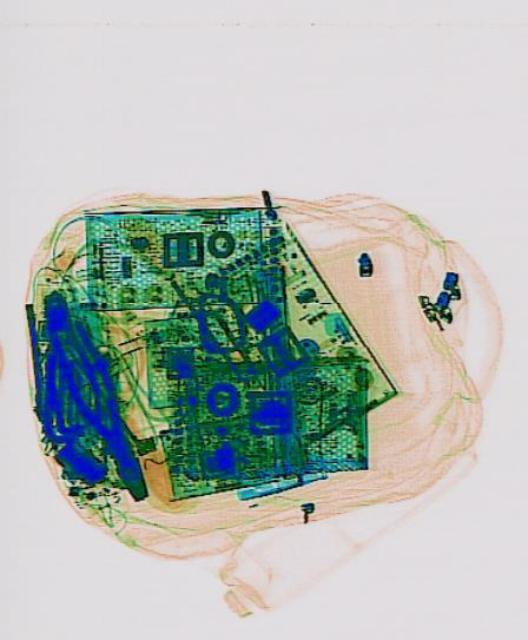Pliers: (41, 311, 162, 511)
